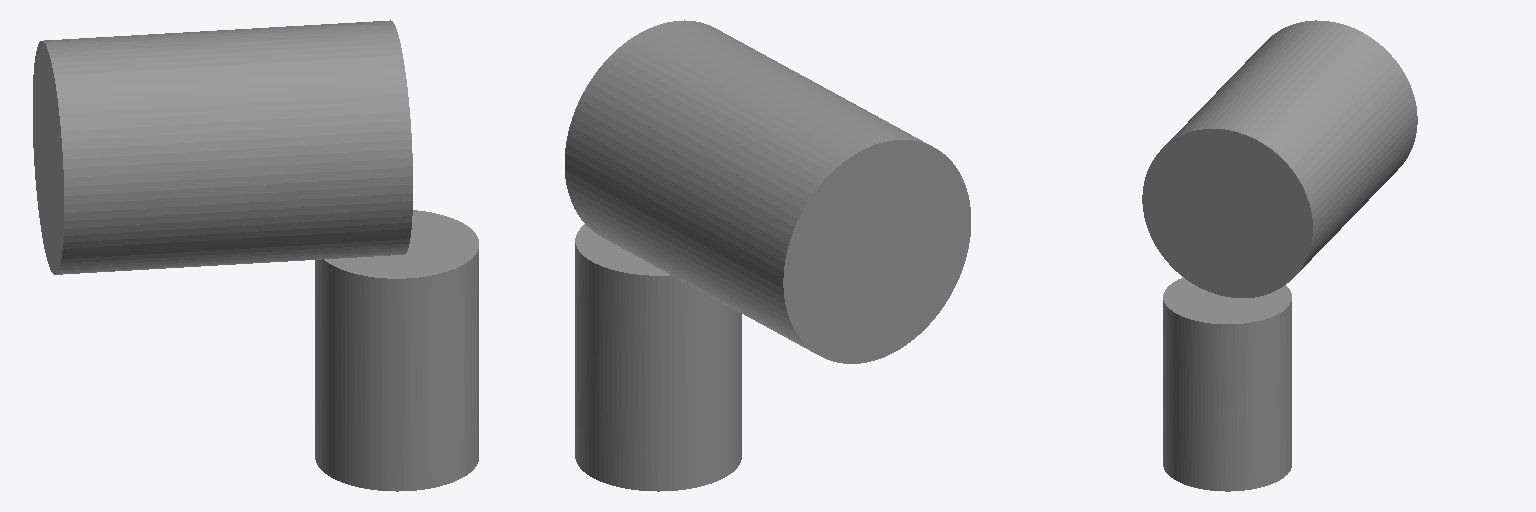
The robot description file, URDF, robot "arm_1":
<?xml version="1.0" ?>
<!-- =================================================================================== -->
<!-- |    This document was autogenerated by xacro from /home/hao/Ubuntu_2/ROS_practice/ros2_ws/src/gazebo_simulator/models/arm_1/urdf/arm_1.xacro | -->
<!-- |    EDITING THIS FILE BY HAND IS NOT RECOMMENDED                                 | -->
<!-- =================================================================================== -->
<robot name="arm_1">
  <material name="silver_default">
    <color rgba="0.700 0.700 0.700 1.000"/>
  </material>
  <material name="_">
    <color rgba="0.6274509803921569 0.6274509803921569 0.6274509803921569 1.0"/>
  </material>
  <transmission name="motor_1_tran">
    <type>transmission_interface/SimpleTransmission</type>
    <joint name="motor_1">
      <hardwareInterface>hardware_interface/EffortJointInterface</hardwareInterface>
    </joint>
    <actuator name="motor_1_actr">
      <hardwareInterface>hardware_interface/EffortJointInterface</hardwareInterface>
      <mechanicalReduction>1</mechanicalReduction>
    </actuator>
  </transmission>
  <link name="base_link">
    <inertial>
      <origin rpy="0 0 0" xyz="-0.023998948872794978 -0.007387863182670346 0.06661108569012464"/>
      <mass value="3.021034035508284"/>
      <inertia ixx="0.003443" ixy="0.0" ixz="0.0" iyy="0.003443" iyz="-0.0" izz="0.00185"/>
    </inertial>
    <visual>
      <origin rpy="0 0 0" xyz="0 0 0"/>
      <geometry>
        <mesh filename="package://arm_1/meshes/base_link.stl" scale="0.001 0.001 0.001"/>
      </geometry>
      <material name="_"/>
    </visual>
    <collision>
      <origin rpy="0 0 0" xyz="0 0 0"/>
      <geometry>
        <mesh filename="package://arm_1/meshes/base_link.stl" scale="0.001 0.001 0.001"/>
      </geometry>
    </collision>
  </link>
  <link name="arm_link_1_v2_2">
    <inertial>
      <origin rpy="0 0 0" xyz="-0.06943606034614613 0.028348442295090398 0.05000008569012458"/>
      <mass value="9.248063374004953"/>
      <inertia ixx="0.013212" ixy="0.004045" ixz="0.0" iyy="0.021469" iyz="-0.0" izz="0.02312"/>
    </inertial>
    <visual>
      <origin rpy="0 0 0" xyz="0.023999 0.007388 -0.116611"/>
      <geometry>
        <mesh filename="package://arm_1/meshes/arm_link_1_v2_2.stl" scale="0.001 0.001 0.001"/>
      </geometry>
      <material name="_"/>
    </visual>
    <collision>
      <origin rpy="0 0 0" xyz="0.023999 0.007388 -0.116611"/>
      <geometry>
        <mesh filename="package://arm_1/meshes/arm_link_1_v2_2.stl" scale="0.001 0.001 0.001"/>
      </geometry>
    </collision>
  </link>
  <joint name="motor_1" type="continuous">
    <origin rpy="0 0 0" xyz="-0.023999 -0.007388 0.116611"/>
    <parent link="base_link"/>
    <child link="arm_link_1_v2_2"/>
    <axis xyz="-0.0 0.0 -1.0"/>
  </joint>
  <!-- ros2_control plugin config (keep velocity interfaces compatible with existing controllers) -->
  <ros2_control name="GazeboSystem" type="system">
    <hardware>
      <plugin>gz_ros2_control/GazeboSimSystem</plugin>
    </hardware>
    <joint name="motor_1">
      <command_interface name="velocity"/>
      <state_interface name="position"/>
      <state_interface name="velocity"/>
    </joint>
  </ros2_control>
  <gazebo>
    <plugin filename="libgz_ros2_control-system.so" name="gz_ros2_control::GazeboSimROS2ControlPlugin">
      <parameters>/home/hao/Ubuntu_2/ROS_practice/ros2_ws/install/gazebo_simulator/share/gazebo_simulator/config/controller_arm_1.yaml</parameters>
    </plugin>
  </gazebo>
  <gazebo>
    <plugin filename="libgz-sim-pose-publisher-system.so" name="gz::sim::systems::PosePublisher">
      <publish_link_pose>true</publish_link_pose>
      <publish_model_pose>true</publish_model_pose>
      <use_pose_vector_msg>true</use_pose_vector_msg>
      <update_frequency>50</update_frequency>
    </plugin>
  </gazebo>
</robot>

--- What the picture shows (computed from the rendered views, not written in the file) ---
3 views of the same robot in one strip: view 1: azimuth 30°, elevation 25°; view 2: azimuth 150°, elevation 25°; view 3: azimuth 270°, elevation 25° (orthographic).
Robot: arm_1 — 2 links, 1 joints (1 continuous); root link base_link; default pose: all joints at 0.
Links seen in each view (by area): view 1: arm_link_1_v2_2, base_link; view 2: arm_link_1_v2_2, base_link; view 3: arm_link_1_v2_2, base_link.
Link boxes in pixels (x1,y1,x2,y2): arm_link_1_v2_2: [33, 20, 412, 274]; base_link: [315, 210, 478, 491]; arm_link_1_v2_2: [565, 20, 970, 363]; base_link: [575, 224, 741, 491]; arm_link_1_v2_2: [1142, 20, 1417, 297]; base_link: [1163, 277, 1291, 491].
Bounding box of the posed robot: 0.1928 × 0.1493 × 0.2 m (x, y, z).
Meshes: 2 distinct files referenced, 2 mesh visuals loaded (2 binary STL).
